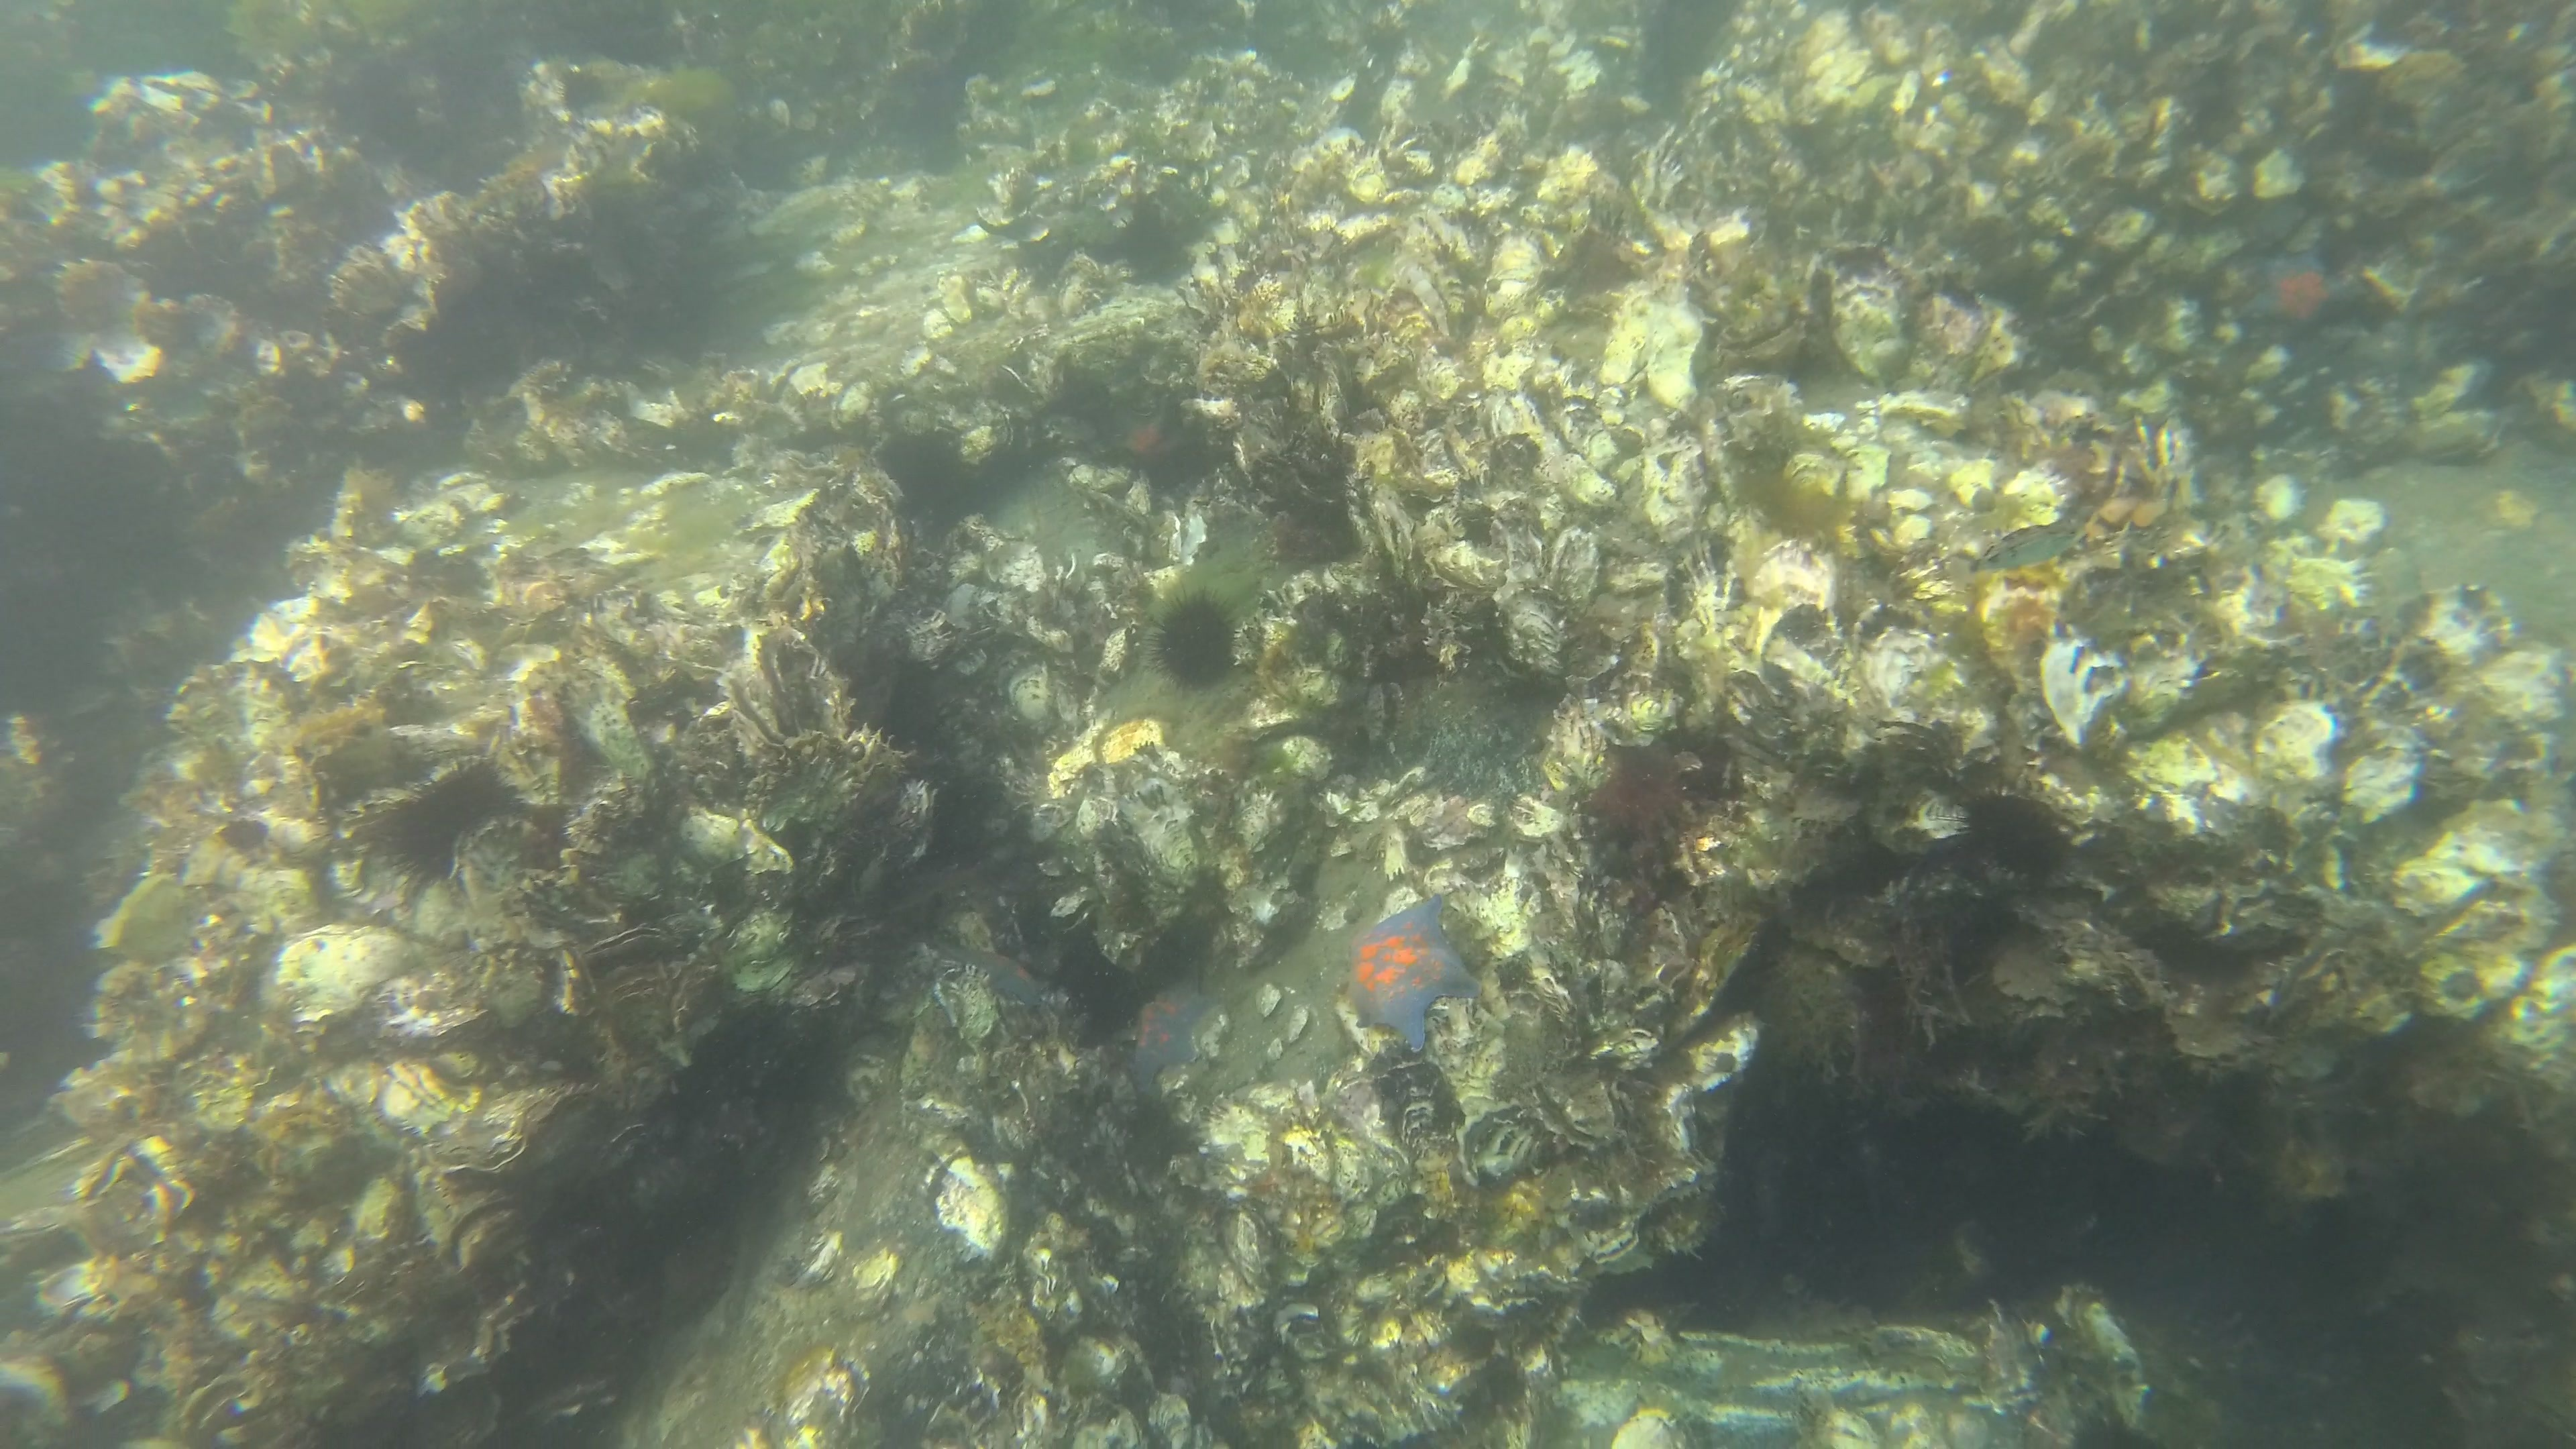echinus: (375, 770, 525, 883), (1950, 782, 2074, 885), (1150, 591, 1240, 692), (1131, 1284, 1208, 1376), (1116, 214, 1182, 276)
starfish: (1346, 899, 1477, 1049), (2254, 242, 2357, 331), (943, 941, 1060, 1016), (1127, 973, 1212, 1069), (1097, 403, 1191, 471)
